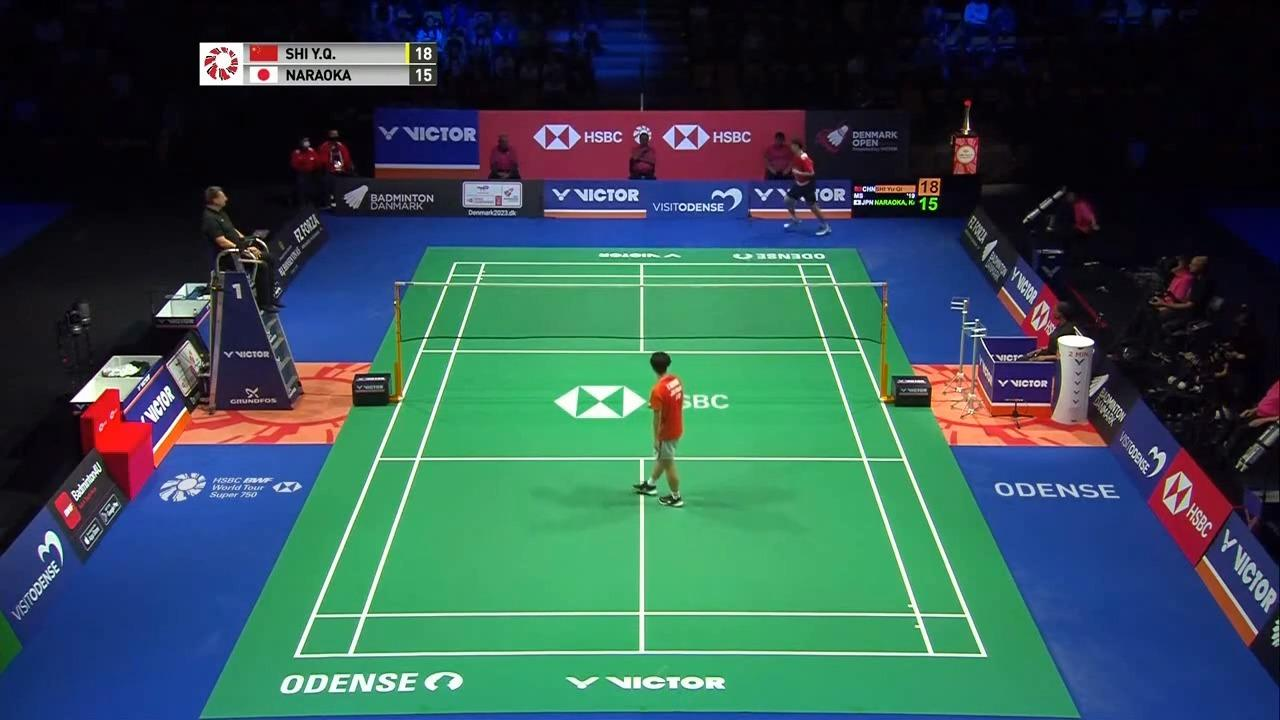shuttle: (747, 252, 754, 261)
